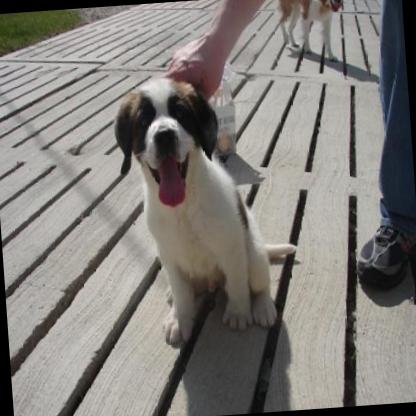Saint_Bernard: (107, 64, 306, 346), (269, 0, 348, 68)
